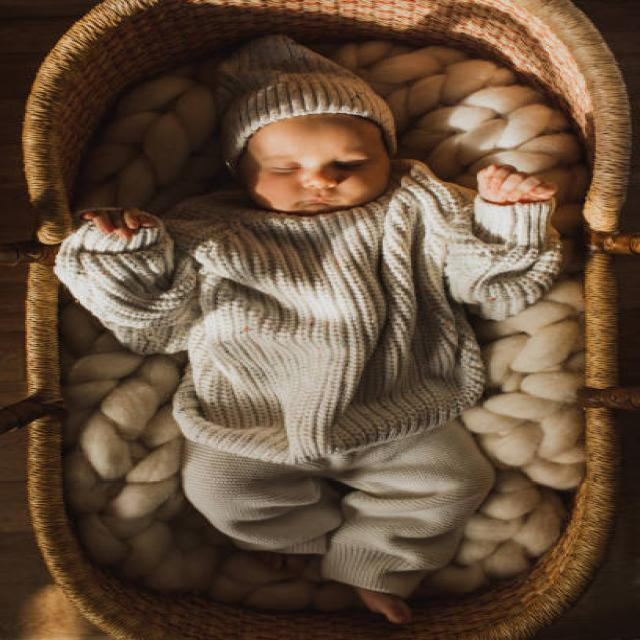baby: (52, 39, 564, 624)
